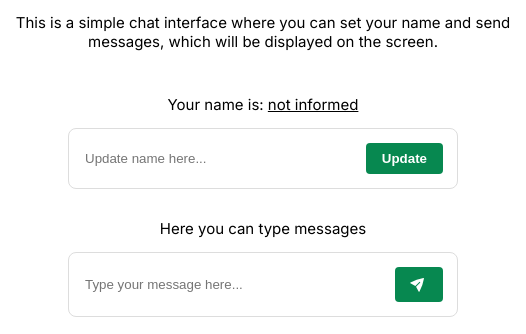
Scenario: Basic tests › Types in name, updates and checks for it in page
Expected: the button with id "updateNameButton" is shown, top-left (366, 143), bottom-right (443, 174)
Step 1. Type "Sample Name" into the field with id "nameInput" → (215, 159), box top-left (83, 143), bottom-right (346, 174)
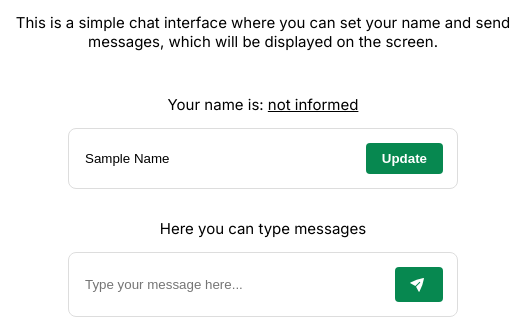
Step 2. Click the button with id "updateNameButton" → click(405, 159), box top-left (366, 143), bottom-right (443, 174)
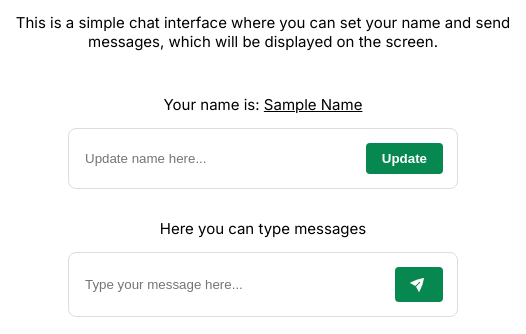
Now the text "Sample Name" is shown, box top-left (264, 95), bottom-right (362, 114)
